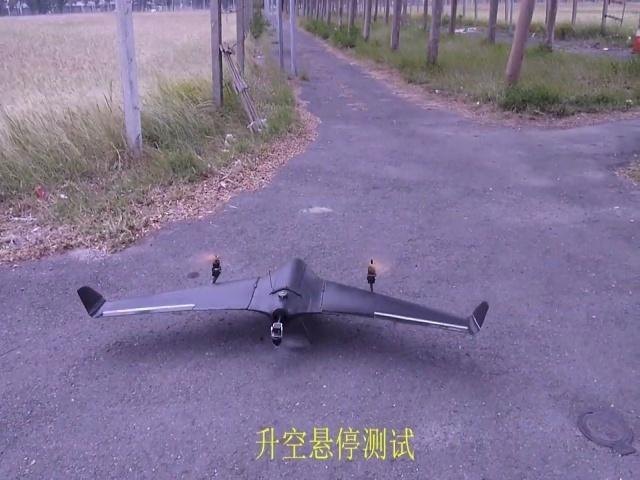Airplane: (77, 251, 489, 350)
